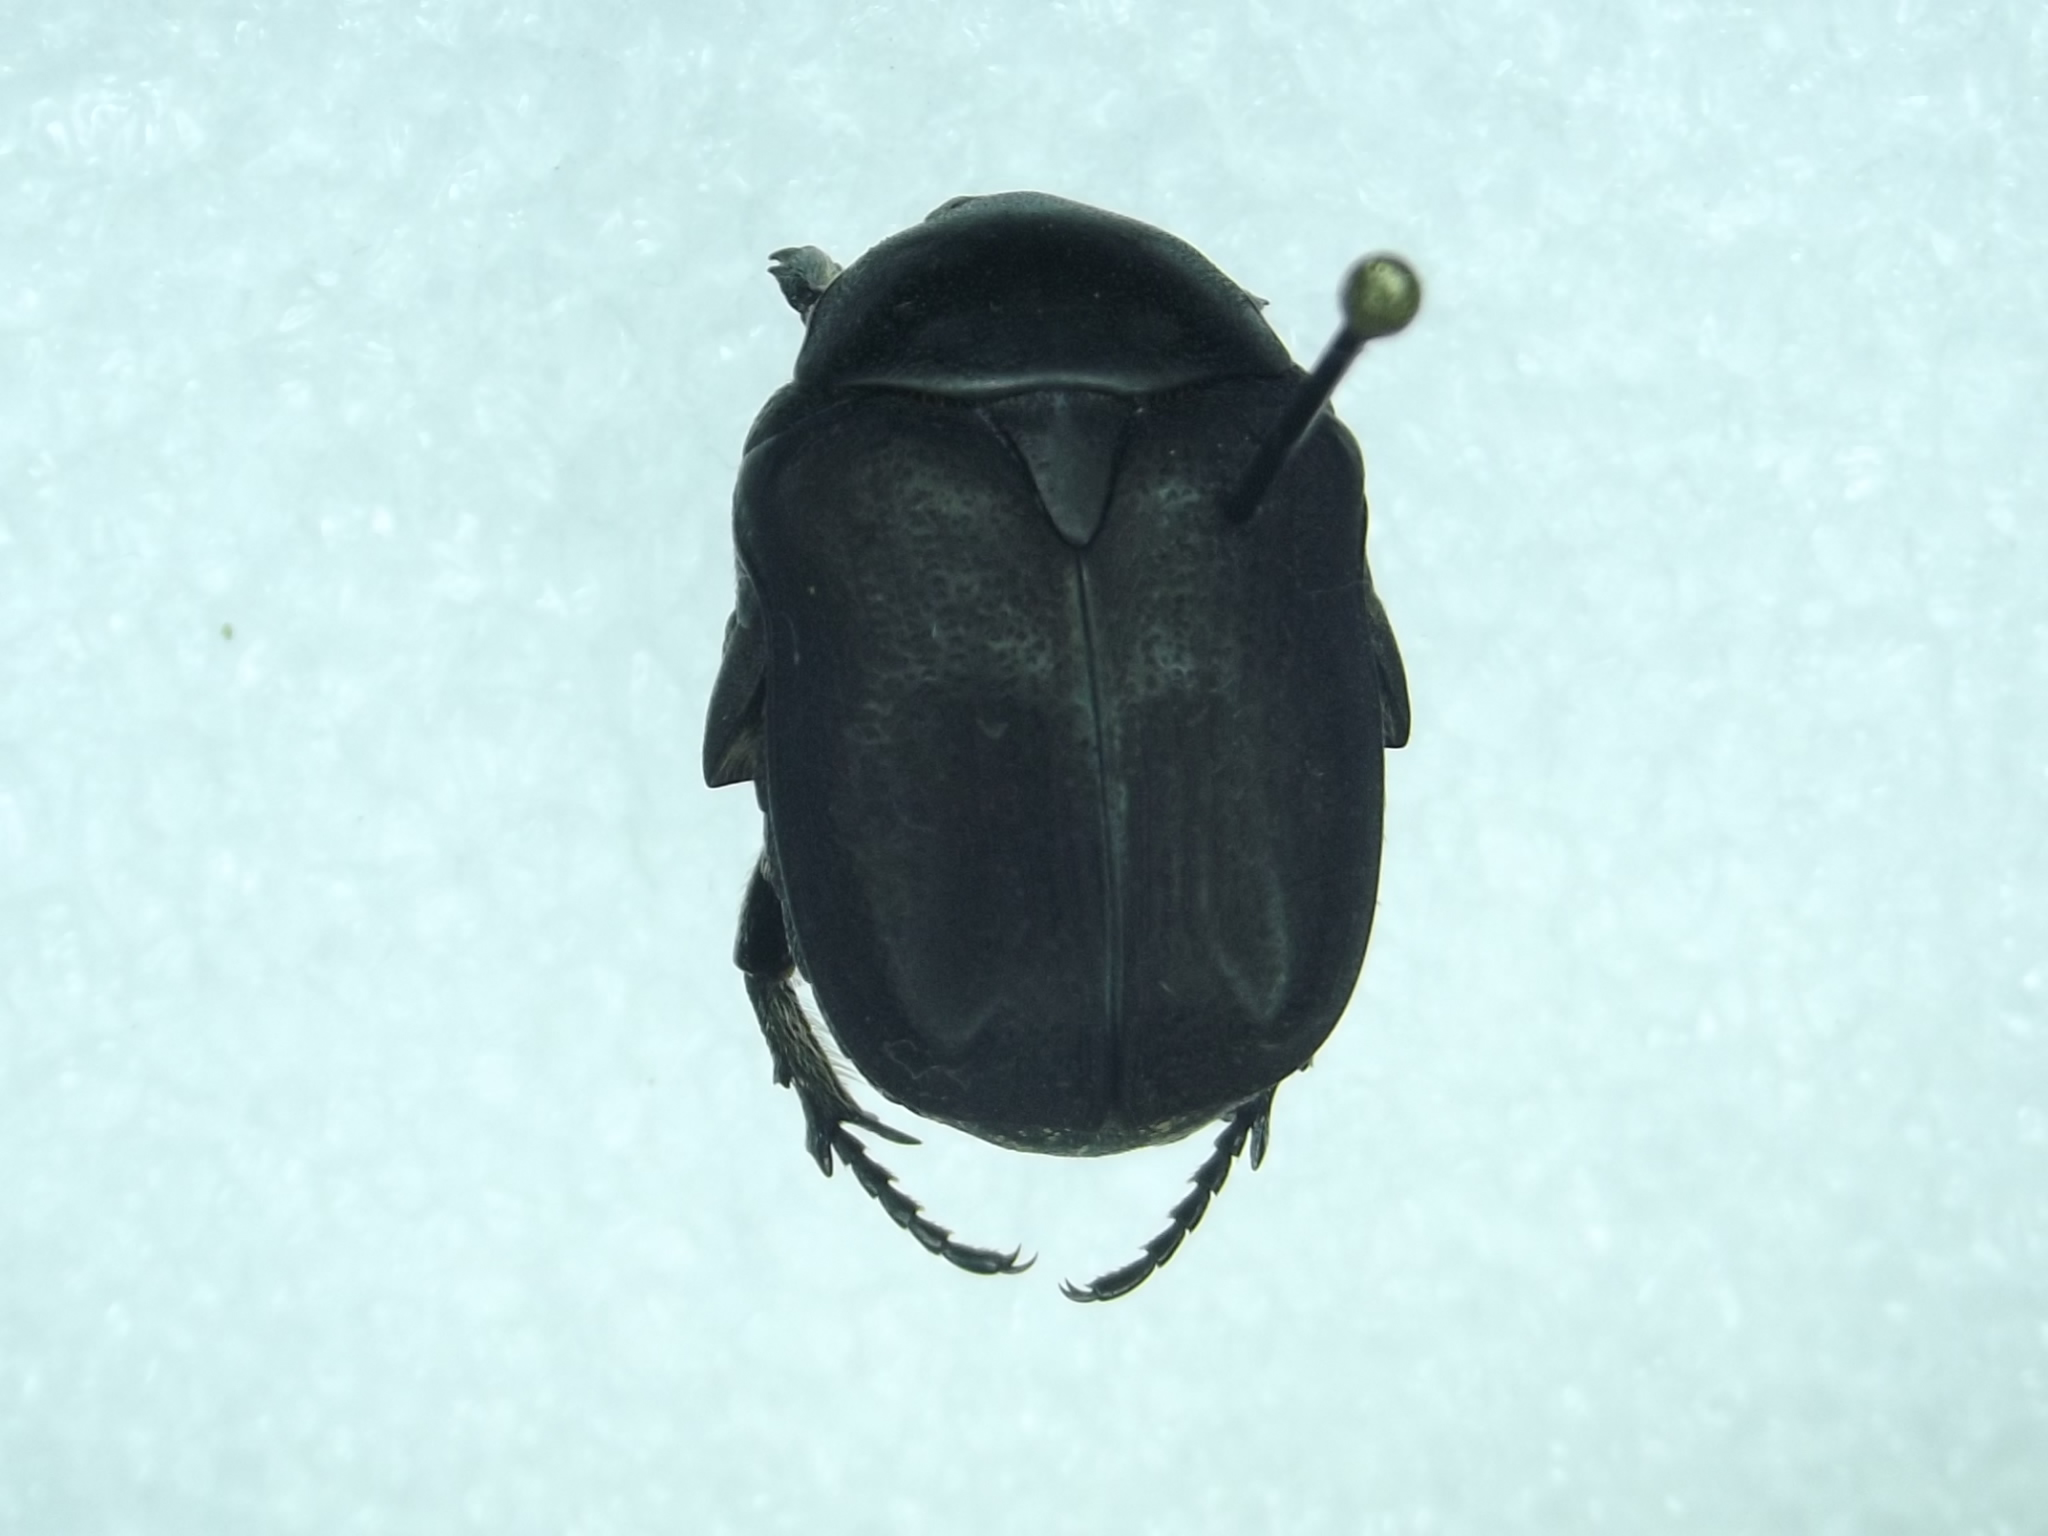Protaetia_asiatica: (700, 168, 1417, 1321)
